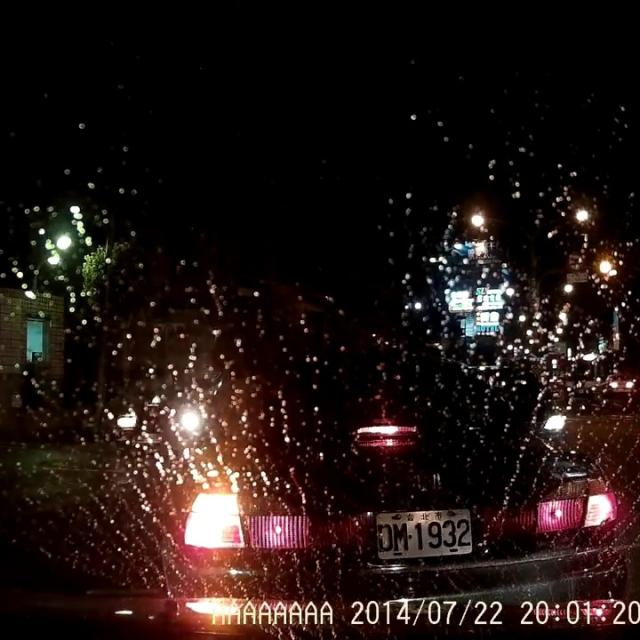Car: (149, 329, 628, 607), (594, 368, 637, 394)
